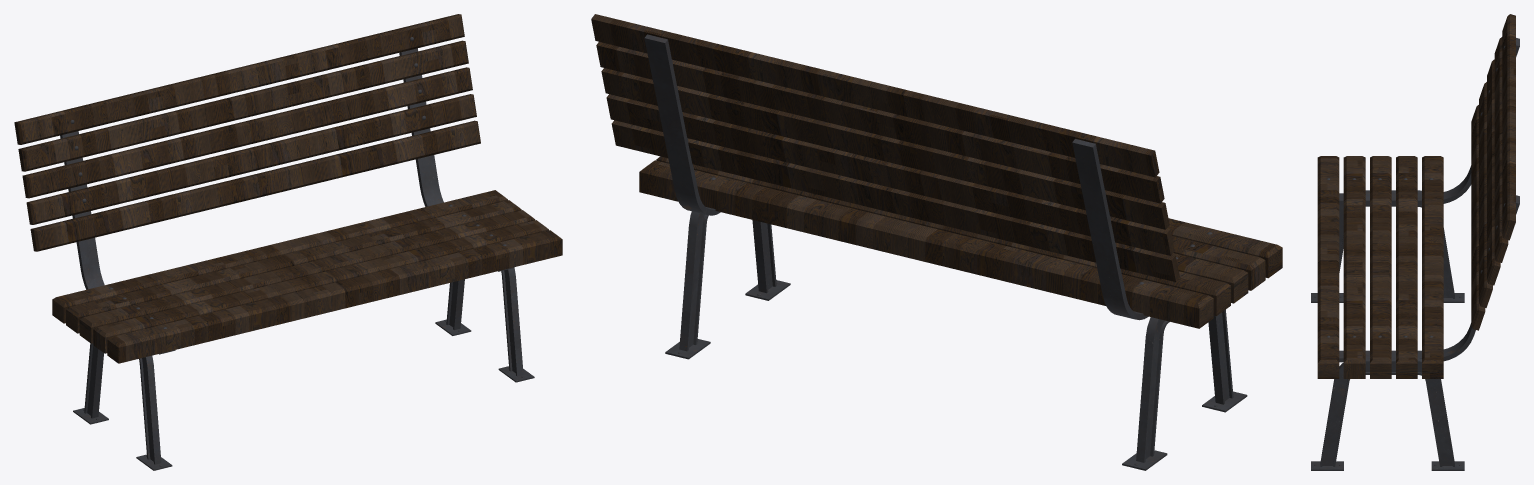
File: ProbBenchB.fbx
3 renders of one model, left to right at view 1: azimuth 30°, elevation 25°; view 2: azimuth 150°, elevation 25°; view 3: azimuth 270°, elevation 25°, orthographic. The views are drawn at different scales.
Visible parts, largest first — view 1: PropBench_B_LOD_0; view 2: PropBench_B_LOD_0; view 3: PropBench_B_LOD_0.
Part boxes in pixels (left/top/right/bottom): PropBench_B_LOD_0: left=14, top=14, right=562, bottom=470; PropBench_B_LOD_0: left=591, top=14, right=1282, bottom=470; PropBench_B_LOD_0: left=1311, top=14, right=1519, bottom=470.
Size of what is drawn, in the model's own units: 188 by 113 by 80.47.
